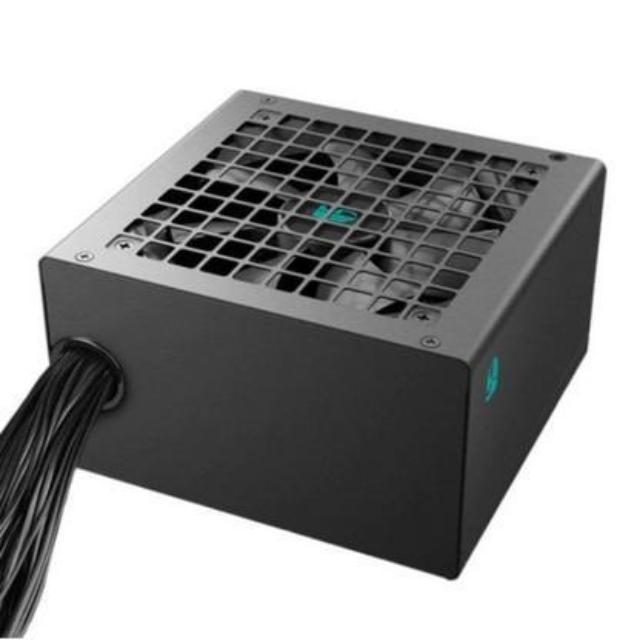PSU: (19, 75, 608, 602)
